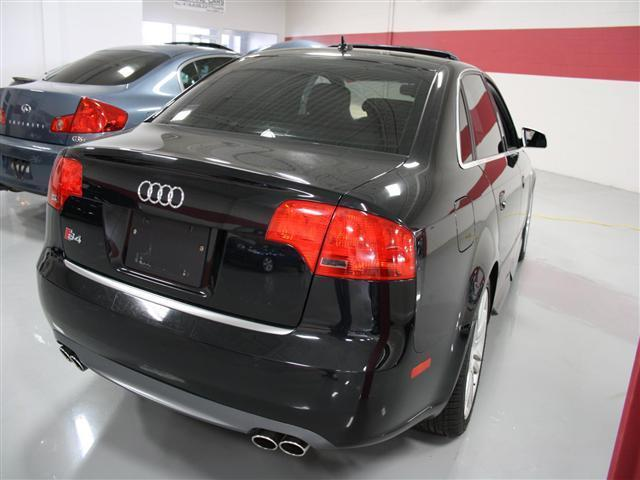Audi: (129, 172, 193, 219)
